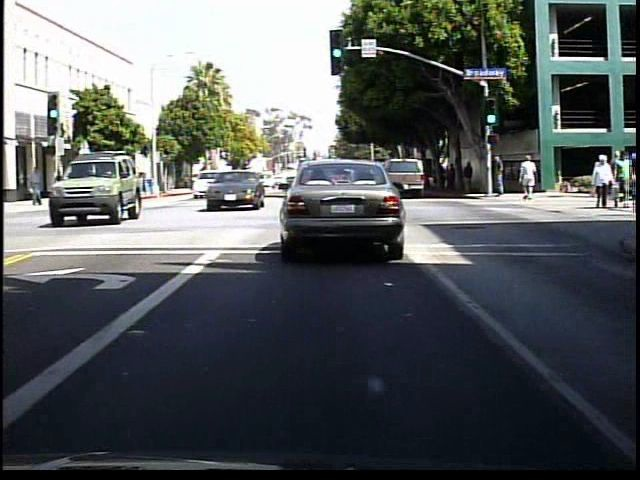person: (586, 156, 614, 210), (611, 146, 629, 211), (490, 152, 510, 204), (519, 154, 540, 203), (31, 163, 51, 208), (465, 160, 480, 193), (450, 162, 463, 194)
